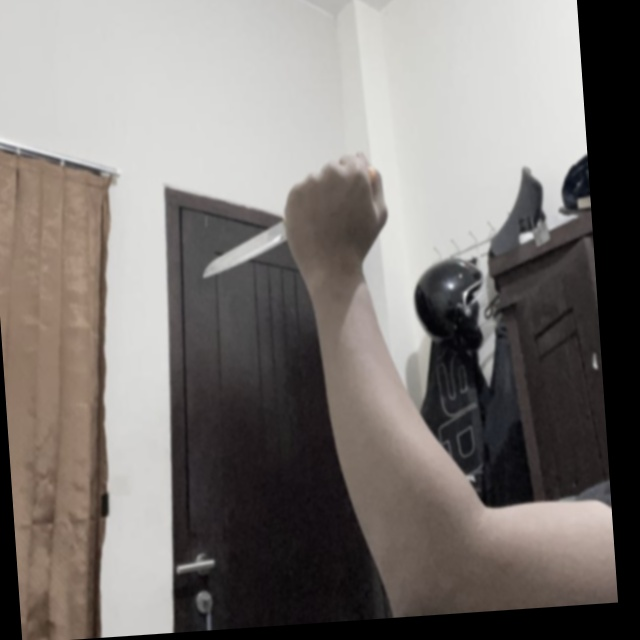Sharp-Object: (198, 213, 292, 280)
